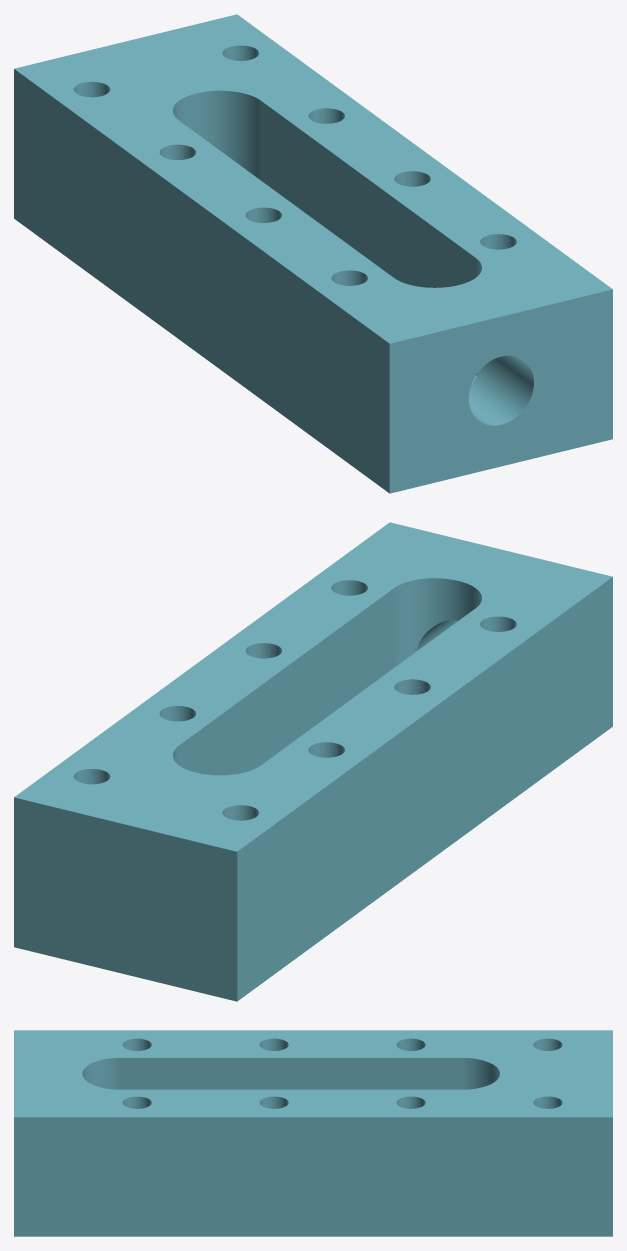
3 renders of one model, top to bottom at view 1: azimuth 30°, elevation 25°; view 2: azimuth 150°, elevation 25°; view 3: azimuth 270°, elevation 25°, orthographic. The views are drawn at different scales.
Parts seen in each view (by area): view 1: Node1; view 2: Node1; view 3: Node1.
Boxes of the visible parts, x1,y1,x2,y2 form: Node1: [14, 14, 612, 493]; Node1: [14, 522, 612, 1001]; Node1: [14, 1030, 612, 1236].
Size of the model in its own units: 60 by 42.5 by 175.
